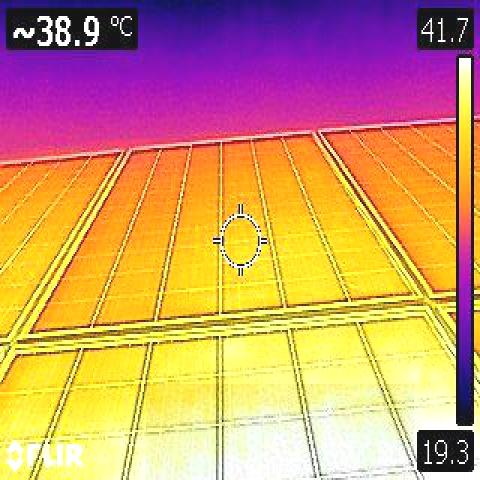fault: (146, 384, 414, 480)
